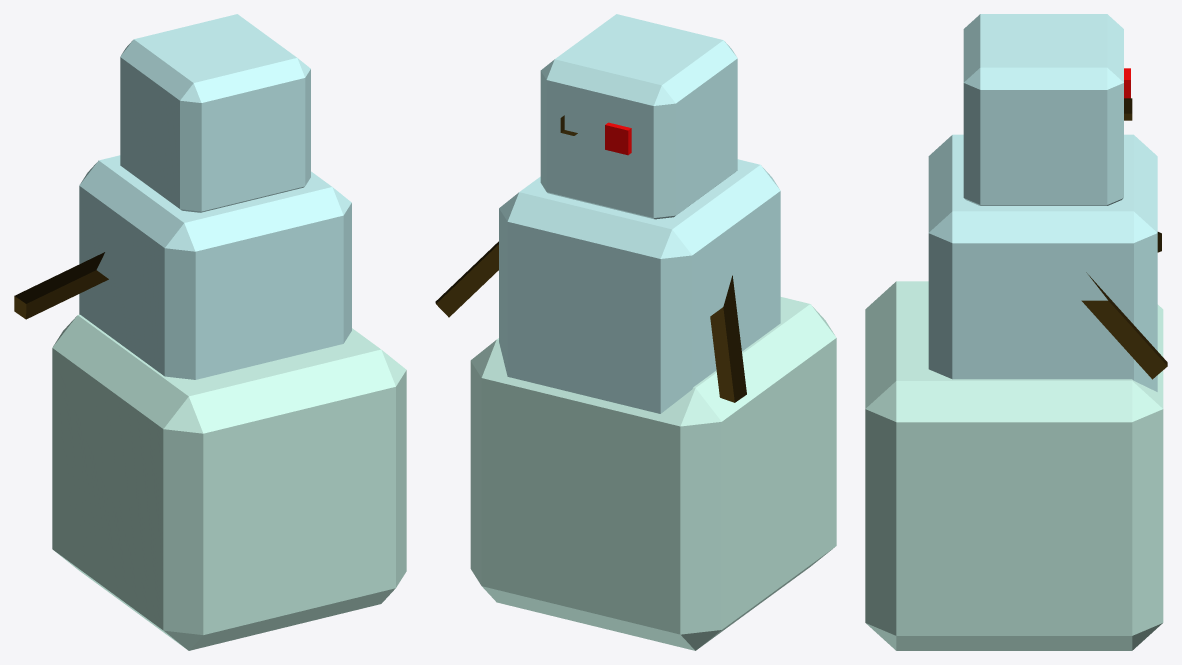
The model's file is SnowManFinal.fbx.
The picture shows the model from 3 angles, left to right: view 1: azimuth 30°, elevation 25°; view 2: azimuth 150°, elevation 25°; view 3: azimuth 270°, elevation 25°; orthographic projection. The views are drawn at different scales.
Parts seen in each view (by area): view 1: Cube.002, Cube, Cube.001, Cube.006; view 2: Cube.002, Cube, Cube.001, Cube.006, Cube.005, Cube.004; view 3: Cube.002, Cube, Cube.001, Cube.005.
Part boxes in pixels (box(x1,y1,x2,y2)): Cube.002: box(52, 314, 406, 650); Cube: box(79, 155, 351, 379); Cube.001: box(120, 14, 310, 212); Cube.006: box(14, 252, 108, 319); Cube.002: box(470, 297, 836, 650); Cube: box(499, 159, 780, 413); Cube.001: box(540, 14, 737, 219); Cube.006: box(710, 275, 746, 402); Cube.005: box(435, 241, 498, 317); Cube.004: box(605, 122, 631, 155); Cube.002: box(865, 281, 1163, 650); Cube: box(928, 134, 1157, 391); Cube.001: box(963, 14, 1123, 205); Cube.005: box(1081, 272, 1167, 379).
Size of the model in its own units: 319 by 539 by 264.
